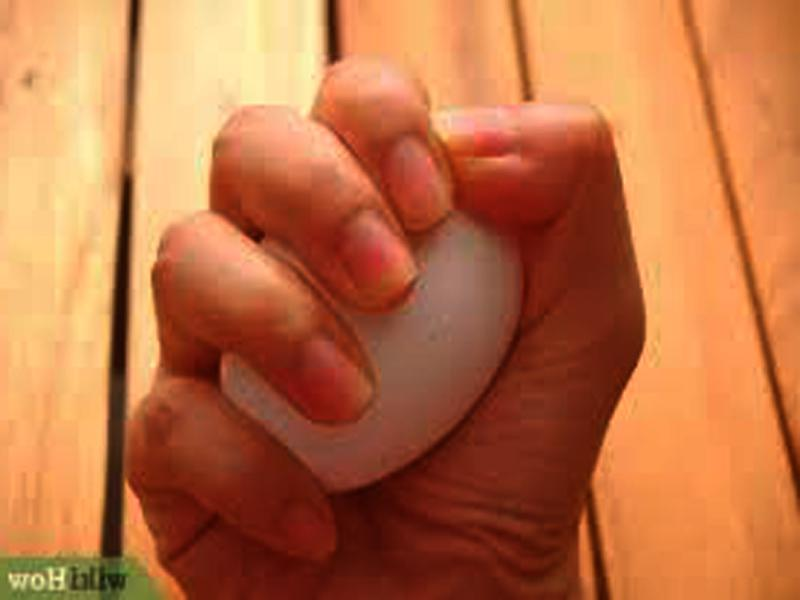Eggs: (217, 210, 526, 492)
